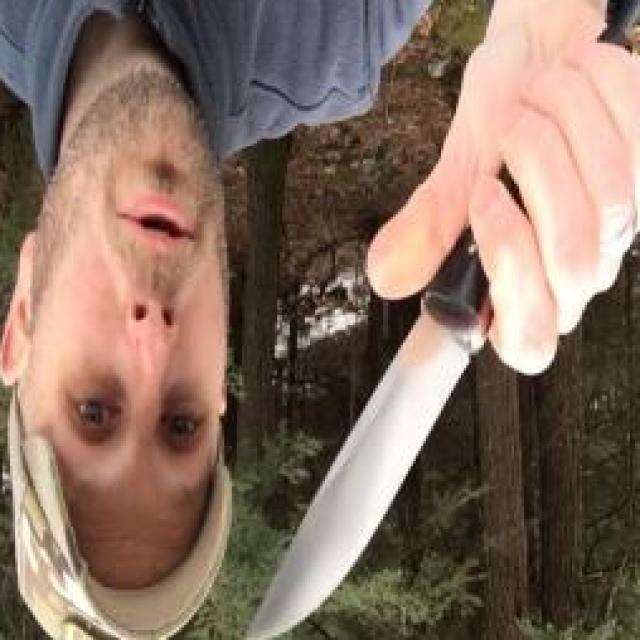knife: (242, 131, 564, 640)
